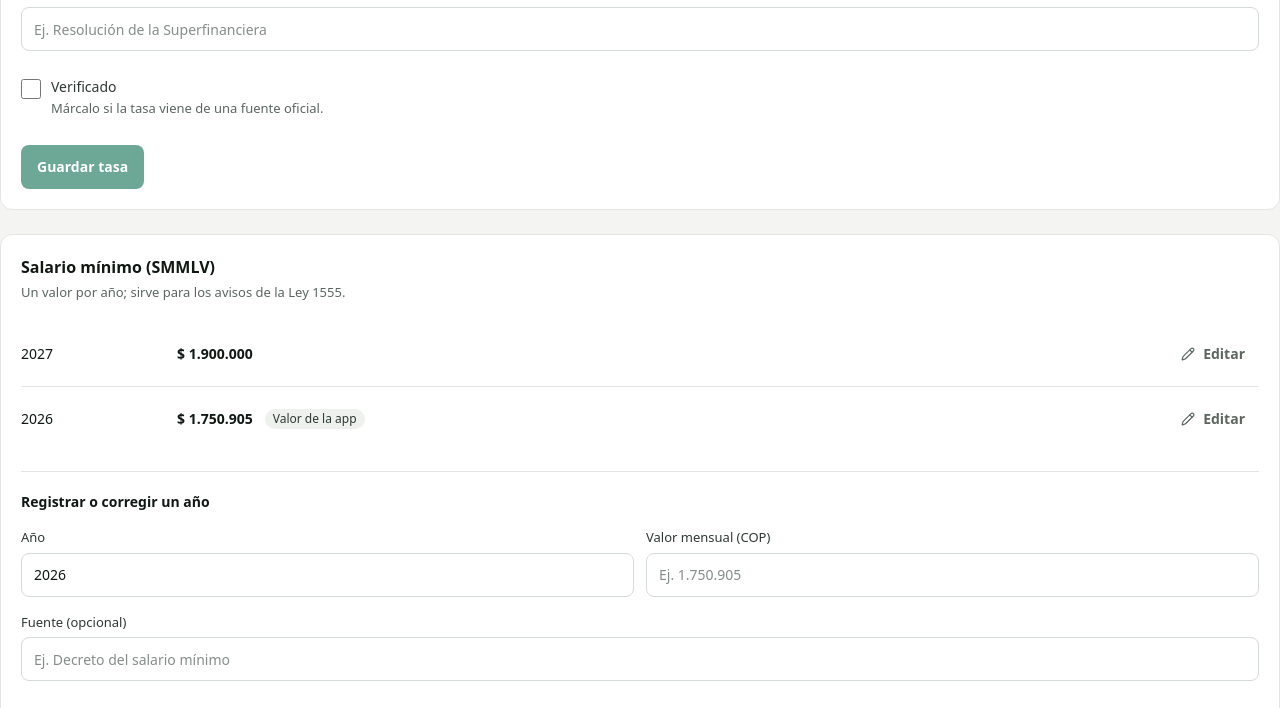
LegalRatesPanel SMMLV rows › prefills the form from Editar with the stored year and pesos
(page scrolled)
Click the button with aria-label "Editar SMMLV 2027".
click(1213, 354)  # box [1167,334,1259,374]
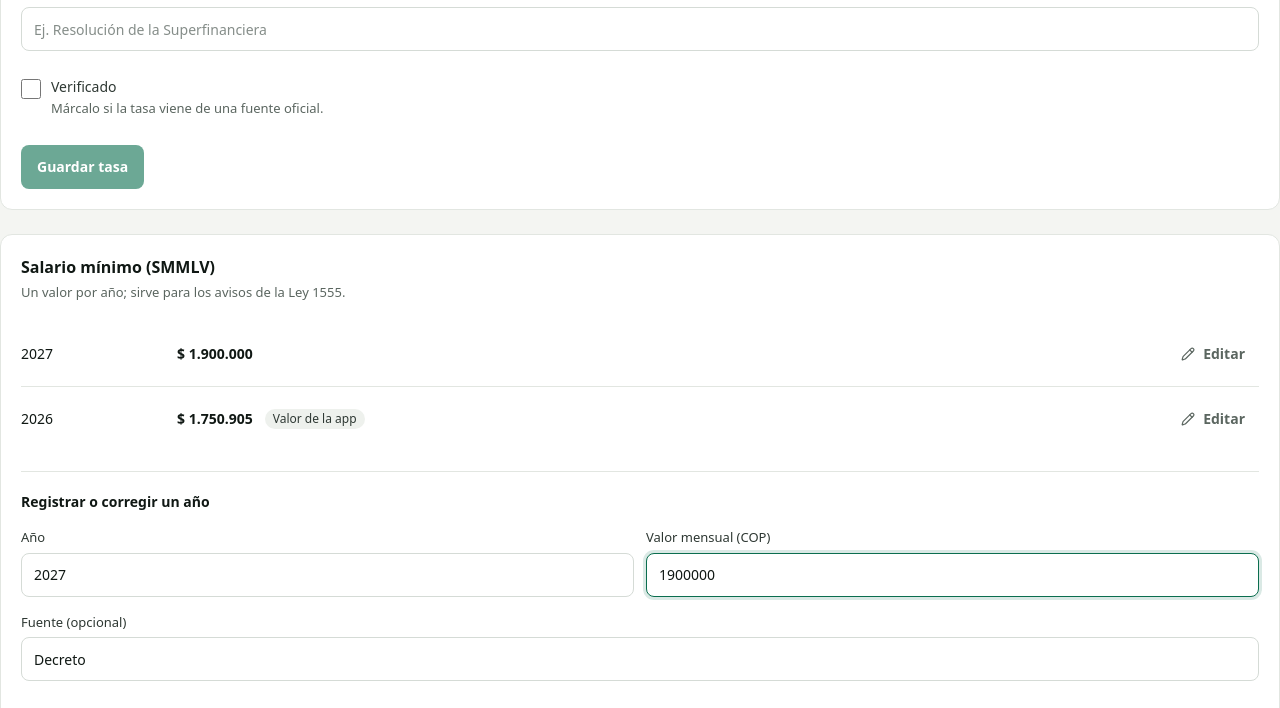
Check: the field labelled "Año" holds "2027", box [21,553,634,597]
Check: the field labelled "Valor mensual (COP)" holds "1900000", box [646,553,1259,597]
Check: the field labelled "Fuente (opcional)" below "Valor mensual (COP)" holds "Decreto", box [21,637,1259,681]
